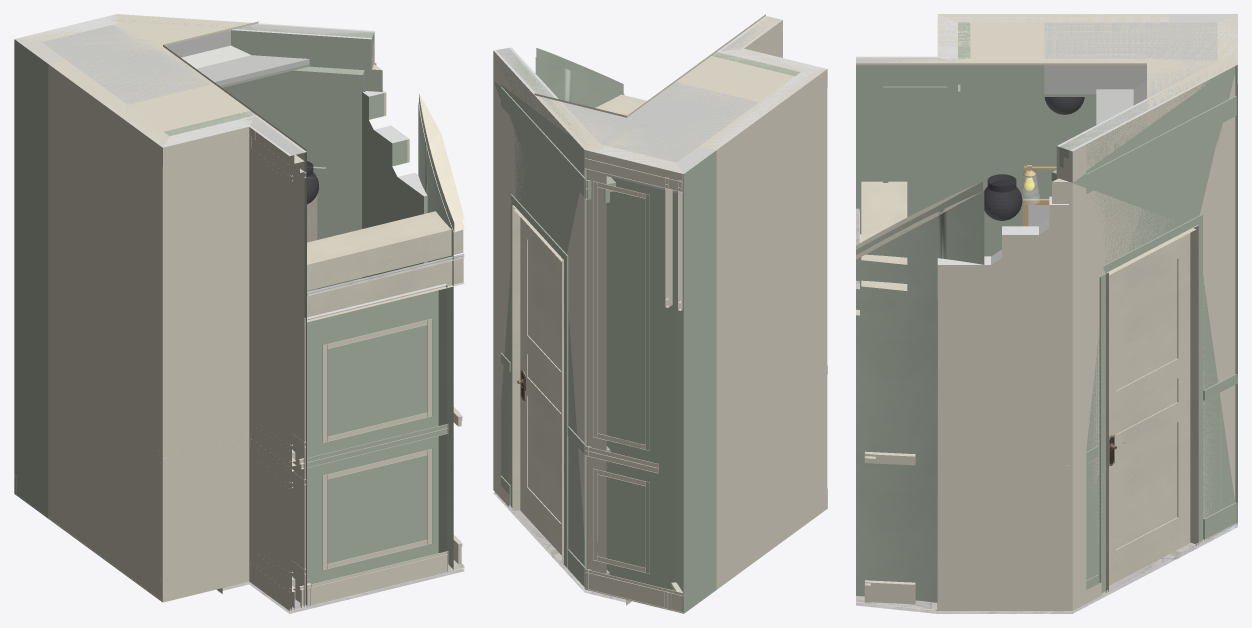
The model's file is powder-room-fec7eadc4212.glb.
3 renders of one model, left to right at view 1: azimuth 30°, elevation 25°; view 2: azimuth 150°, elevation 25°; view 3: azimuth 270°, elevation 25°, orthographic. The views are drawn at different scales.
Visible parts, largest first — view 1: powder-room-d33eebe572d154f2, powder-room-1a8091885ac212af, powder-room-ab5cb5e7d303dd66, powder-room-85f0fd939e0fcc78, powder-room-9b21989b25895c4a, powder-room-a5eabba2ad6474eb, powder-room-2575515a05775d9e, powder-room-5b07a8f5f7929ff6, powder-room-ca6eafacc0f493ac, powder-room-3d7935a3f1355396, powder-room-261aa5c5ae0f77af, powder-room-b74e3495b7e70350 (+11 smaller); view 2: powder-room-d33eebe572d154f2, powder-room-a5eabba2ad6474eb, powder-room-b2b5f93b4255576d, powder-room-9b21989b25895c4a, powder-room-539cd4ce99668665, powder-room-2575515a05775d9e, powder-room-5b07a8f5f7929ff6, powder-room-86d6fc7292b21ae1, powder-room-ae2ab6de1156d266, powder-room-48dc2409da547ff7, powder-room-b74e3495b7e70350, powder-room-f5fbb4dd3b92b4c5 (+14 smaller); view 3: powder-room-d65b0a574c2ac13c, powder-room-a5eabba2ad6474eb, powder-room-b74e3495b7e70350, powder-room-539cd4ce99668665, powder-room-2575515a05775d9e, powder-room-d33eebe572d154f2, powder-room-85f0fd939e0fcc78, powder-room-5b07a8f5f7929ff6, powder-room-48dc2409da547ff7, powder-room-86d6fc7292b21ae1, powder-room-48dd1d74e06d76de, powder-room-ca6eafacc0f493ac (+17 smaller).
Part boxes in pixels (x1,y1,x2,y2): powder-room-d33eebe572d154f2: [48, 60, 167, 601]; powder-room-1a8091885ac212af: [163, 116, 255, 602]; powder-room-ab5cb5e7d303dd66: [306, 283, 447, 605]; powder-room-85f0fd939e0fcc78: [243, 115, 306, 610]; powder-room-9b21989b25895c4a: [14, 39, 64, 518]; powder-room-a5eabba2ad6474eb: [97, 14, 382, 286]; powder-room-2575515a05775d9e: [14, 14, 306, 155]; powder-room-5b07a8f5f7929ff6: [42, 24, 309, 104]; powder-room-ca6eafacc0f493ac: [307, 211, 463, 290]; powder-room-3d7935a3f1355396: [362, 92, 426, 278]; powder-room-261aa5c5ae0f77af: [306, 257, 464, 322]; powder-room-b74e3495b7e70350: [418, 102, 464, 570]; powder-room-d33eebe572d154f2: [701, 69, 827, 589]; powder-room-a5eabba2ad6474eb: [493, 47, 606, 589]; powder-room-b2b5f93b4255576d: [584, 145, 683, 593]; powder-room-9b21989b25895c4a: [676, 146, 716, 613]; powder-room-539cd4ce99668665: [520, 217, 561, 555]; powder-room-2575515a05775d9e: [534, 14, 826, 173]; powder-room-5b07a8f5f7929ff6: [562, 82, 758, 162]; powder-room-86d6fc7292b21ae1: [512, 205, 563, 565]; powder-room-ae2ab6de1156d266: [593, 181, 649, 450]; powder-room-48dc2409da547ff7: [510, 194, 568, 567]; powder-room-b74e3495b7e70350: [535, 57, 624, 107]; powder-room-f5fbb4dd3b92b4c5: [585, 569, 682, 613]; powder-room-d65b0a574c2ac13c: [937, 204, 1068, 610]; powder-room-a5eabba2ad6474eb: [1052, 54, 1235, 610]; powder-room-b74e3495b7e70350: [856, 191, 984, 610]; powder-room-539cd4ce99668665: [1109, 233, 1190, 585]; powder-room-2575515a05775d9e: [856, 14, 1237, 110]; powder-room-d33eebe572d154f2: [938, 14, 1169, 256]; powder-room-85f0fd939e0fcc78: [856, 56, 957, 234]; powder-room-5b07a8f5f7929ff6: [1044, 22, 1217, 124]; powder-room-48dc2409da547ff7: [1099, 214, 1202, 594]; powder-room-86d6fc7292b21ae1: [1106, 225, 1198, 592]; powder-room-48dd1d74e06d76de: [1086, 96, 1236, 193]; powder-room-ca6eafacc0f493ac: [861, 181, 907, 290].
Size of the model in its own units: 1.92 by 3.05 by 2.26.
Materials: 29 (6 with a texture image).
